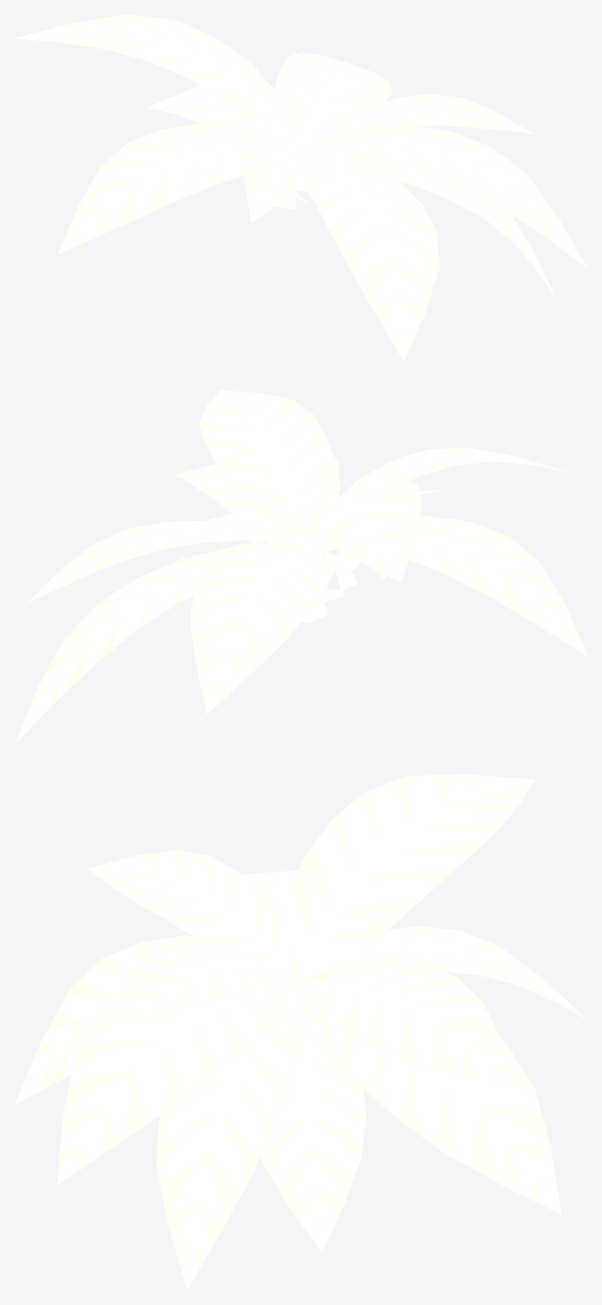
File: leaves.gltf
The picture shows the model from 3 angles, top to bottom: view 1: azimuth 30°, elevation 25°; view 2: azimuth 150°, elevation 25°; view 3: azimuth 270°, elevation 25°; orthographic projection. The views are drawn at different scales.
Parts seen in each view (by area): view 1: palm_tree1; view 2: palm_tree1; view 3: palm_tree1.
Boxes of the visible parts, <box> form: palm_tree1: <box>14,14,587,361</box>; palm_tree1: <box>14,390,587,744</box>; palm_tree1: <box>14,774,586,1290</box>.
Bounding box in the file's own units: 12.63 × 7.23 × 11.92.
1 material, 1 textured.
